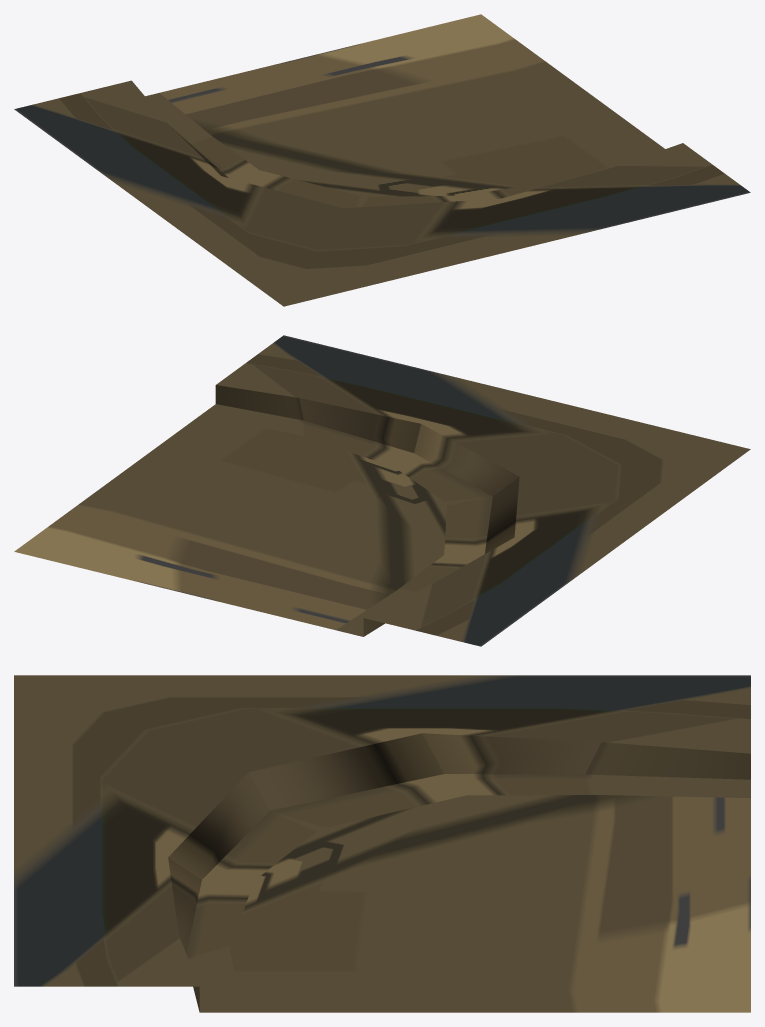
File: SM_Env_Road_Dirt_Bend_01.gltf
3 renders of one model, top to bottom at view 1: azimuth 30°, elevation 25°; view 2: azimuth 150°, elevation 25°; view 3: azimuth 270°, elevation 25°, orthographic. The views are drawn at different scales.
Visible parts, largest first — view 1: SM_Env_Road_Dirt_Bend_01; view 2: SM_Env_Road_Dirt_Bend_01; view 3: SM_Env_Road_Dirt_Bend_01.
Part boxes in pixels (x1,y1,x2,y2): SM_Env_Road_Dirt_Bend_01: (14,14,750,306); SM_Env_Road_Dirt_Bend_01: (14,335,750,646); SM_Env_Road_Dirt_Bend_01: (14,675,750,1012).
Size of the model in its own units: 5 by 0.1948 by 5.
Materials: 1 (1 with a texture image).
